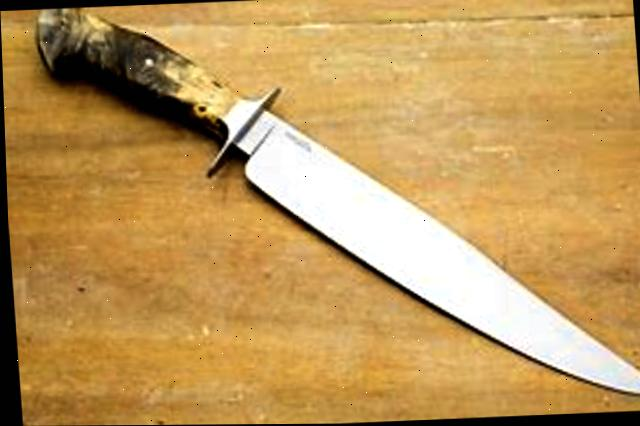long knife: (25, 0, 640, 426)
